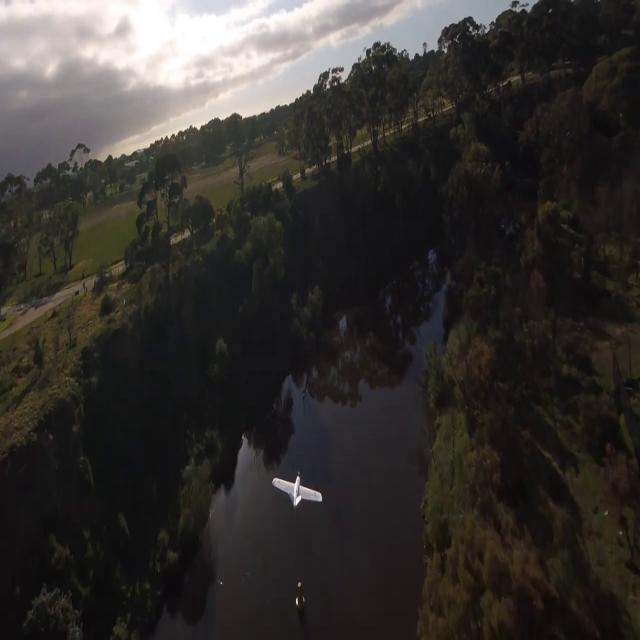iha: (269, 470, 325, 506)
